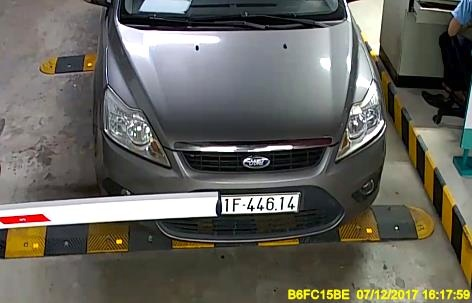plate: (220, 191, 304, 215)
